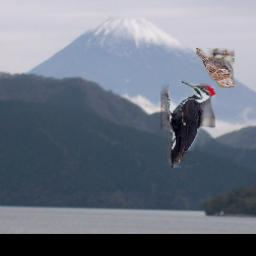Sparrow: (196, 49, 235, 88)
Woodpecker: (161, 81, 215, 169)
